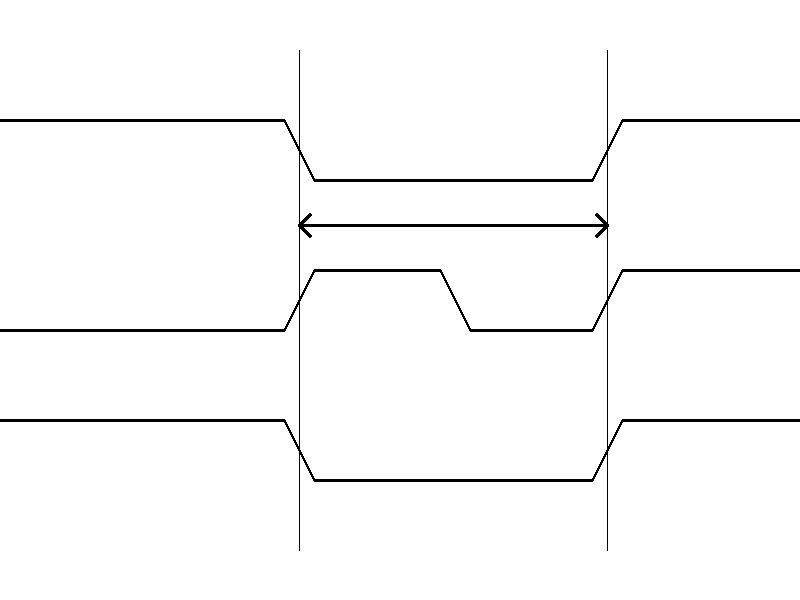double_arrow: (299, 210, 607, 240)
